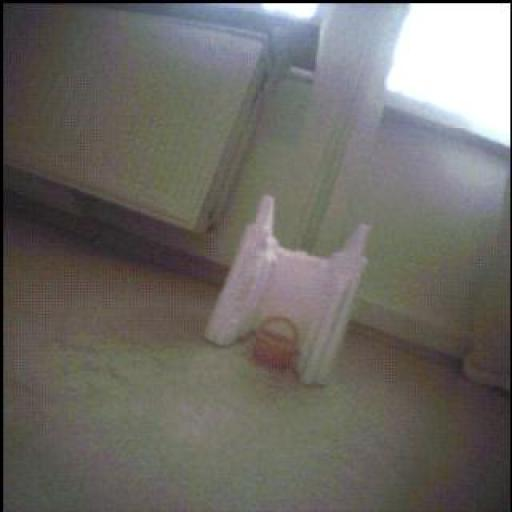Basket: (254, 318, 300, 372)
